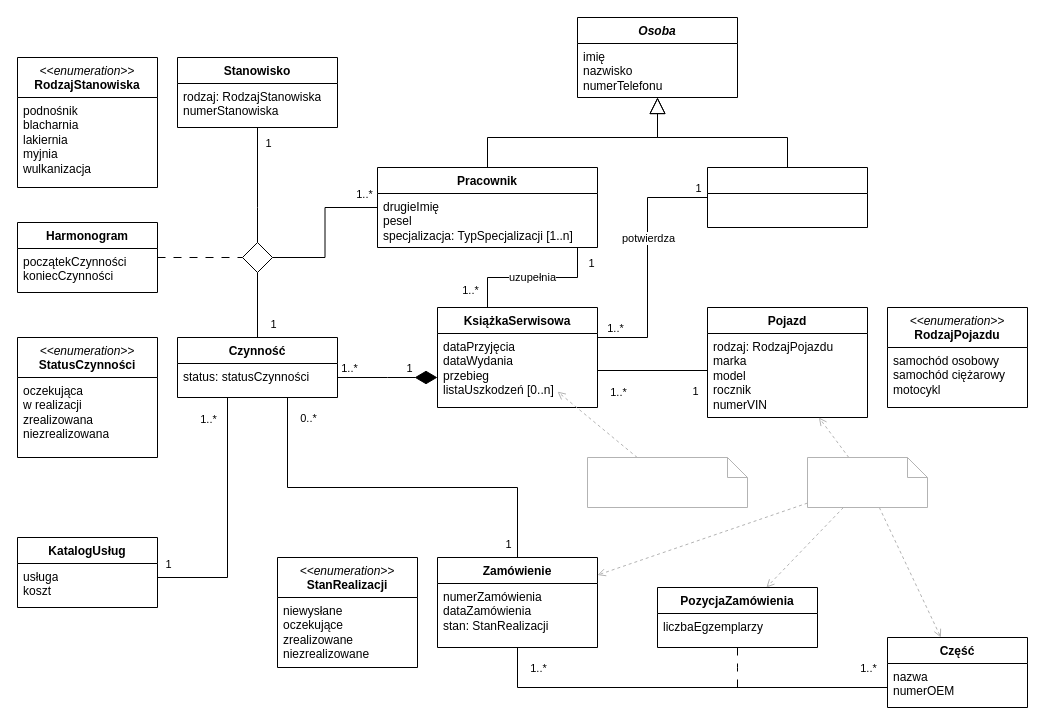
The diagram is 1045 pixels wide and 728 high, and some of its shapes have lost their labels. The centre of each missing label's shape, as x and y in pixels:
Dane dla EDI: [867,482]
Klient: [787,197]
Lista uszkodzeń dotyczy zaobserwowanych uszkodzeń: [667,482]
